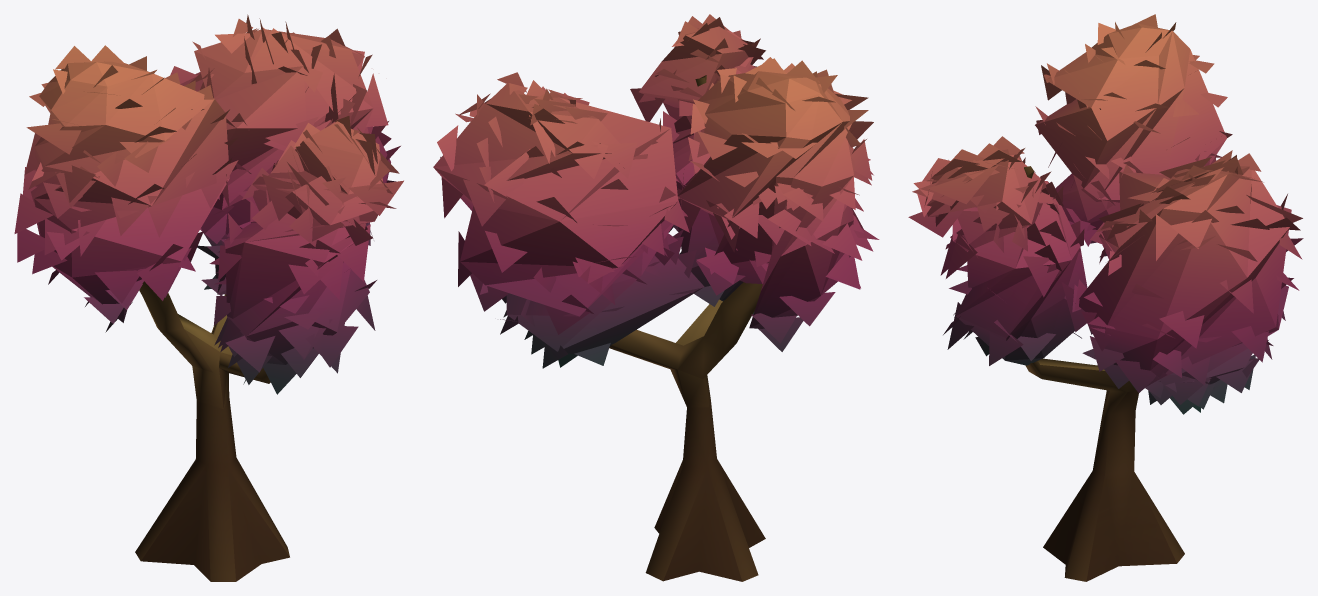
File: Tree_5I.fbx
3 renders of one model, left to right at view 1: azimuth 30°, elevation 25°; view 2: azimuth 150°, elevation 25°; view 3: azimuth 270°, elevation 25°, orthographic. The views are drawn at different scales.
Parts seen in each view (by area): view 1: Tree_5I; view 2: Tree_5I; view 3: Tree_5I.
Part boxes in pixels (x1,y1,x2,y2): Tree_5I: (14, 14, 403, 581); Tree_5I: (433, 14, 879, 581); Tree_5I: (908, 14, 1303, 581).
Bounding box in the file's own units: 6.64 × 8.35 × 6.16.
